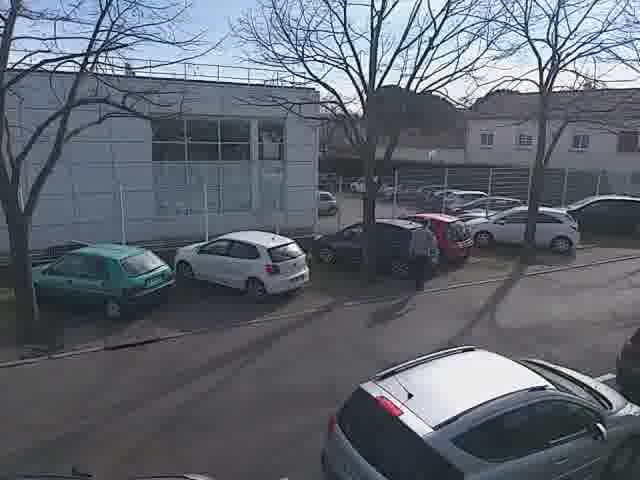persona: (401, 207, 439, 292)
